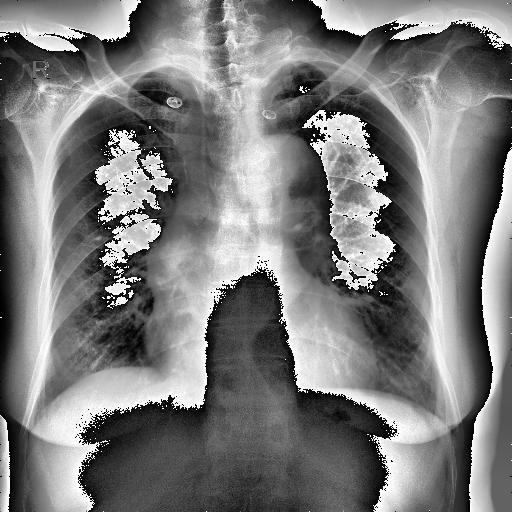0- Aortic enlargement: (246, 138, 332, 230), (251, 132, 334, 223), (254, 132, 324, 208)
3- Cardiomegaly: (142, 310, 380, 390), (144, 312, 378, 386), (140, 322, 382, 388)
